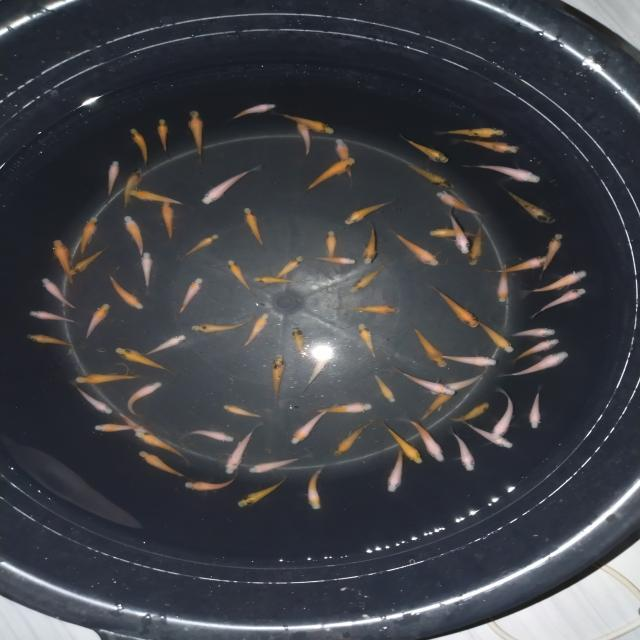nila: (200, 162, 262, 208), (393, 364, 457, 400), (404, 414, 449, 465), (502, 187, 558, 226), (380, 419, 425, 466), (502, 348, 570, 379), (430, 286, 478, 329), (461, 160, 544, 184), (403, 154, 454, 193), (524, 268, 591, 297), (389, 230, 441, 267), (219, 426, 259, 474), (303, 157, 356, 193), (434, 191, 496, 221), (234, 476, 290, 509), (287, 406, 333, 446), (135, 430, 186, 466), (330, 420, 378, 458), (114, 344, 174, 374), (534, 287, 588, 320), (134, 446, 188, 479), (272, 112, 340, 138), (411, 324, 448, 370), (426, 370, 490, 396), (462, 420, 517, 450), (472, 318, 514, 357), (65, 243, 111, 278), (126, 378, 166, 418), (381, 444, 410, 498), (510, 336, 562, 366), (412, 389, 454, 426), (400, 133, 450, 164), (341, 198, 394, 227), (125, 186, 189, 210), (79, 301, 113, 346), (488, 388, 516, 442), (188, 313, 253, 336), (106, 272, 145, 310), (450, 134, 524, 154), (486, 253, 550, 276), (331, 136, 358, 190), (72, 383, 116, 416), (116, 411, 160, 444), (535, 231, 565, 278), (353, 322, 385, 363), (347, 263, 388, 295), (186, 110, 210, 164), (40, 278, 78, 312), (49, 238, 75, 287), (143, 331, 190, 358), (247, 456, 310, 476), (70, 369, 140, 387), (452, 428, 479, 474), (268, 253, 308, 284), (226, 100, 276, 124), (241, 206, 268, 250), (184, 472, 238, 494), (241, 310, 271, 349), (300, 358, 334, 392), (182, 232, 223, 260), (440, 348, 499, 367), (178, 274, 206, 314), (447, 400, 493, 424), (125, 126, 151, 166), (24, 330, 76, 350), (77, 214, 100, 259), (466, 218, 486, 268), (450, 208, 470, 258), (225, 259, 252, 295), (293, 118, 316, 160), (122, 214, 145, 256), (528, 384, 548, 432), (306, 467, 326, 514), (438, 126, 510, 139), (270, 352, 288, 404), (28, 308, 80, 326), (177, 428, 238, 443), (122, 166, 144, 207), (506, 324, 561, 340), (221, 400, 265, 420), (359, 221, 378, 267), (314, 400, 376, 414), (307, 251, 358, 268), (338, 304, 406, 316), (160, 197, 177, 244), (372, 371, 394, 406), (90, 422, 154, 434), (104, 158, 122, 200), (251, 274, 304, 288), (138, 250, 156, 290), (156, 118, 173, 160), (428, 228, 484, 240), (290, 324, 306, 363), (498, 264, 512, 304), (325, 228, 338, 264)
